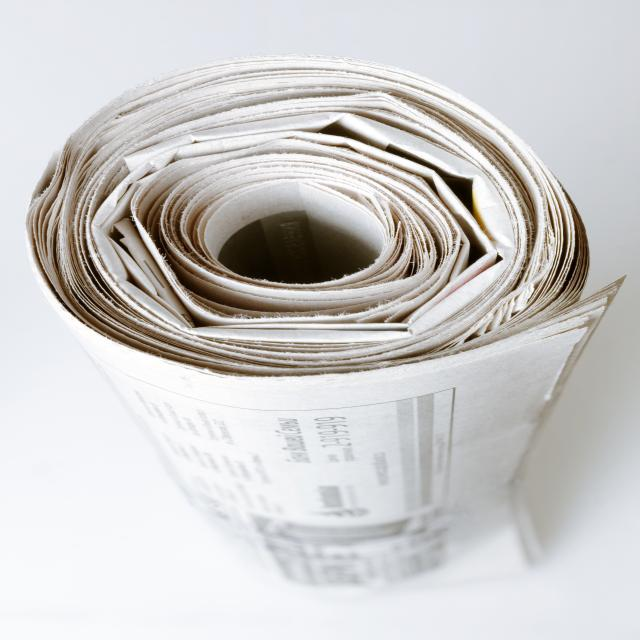paper: (74, 106, 556, 385)
